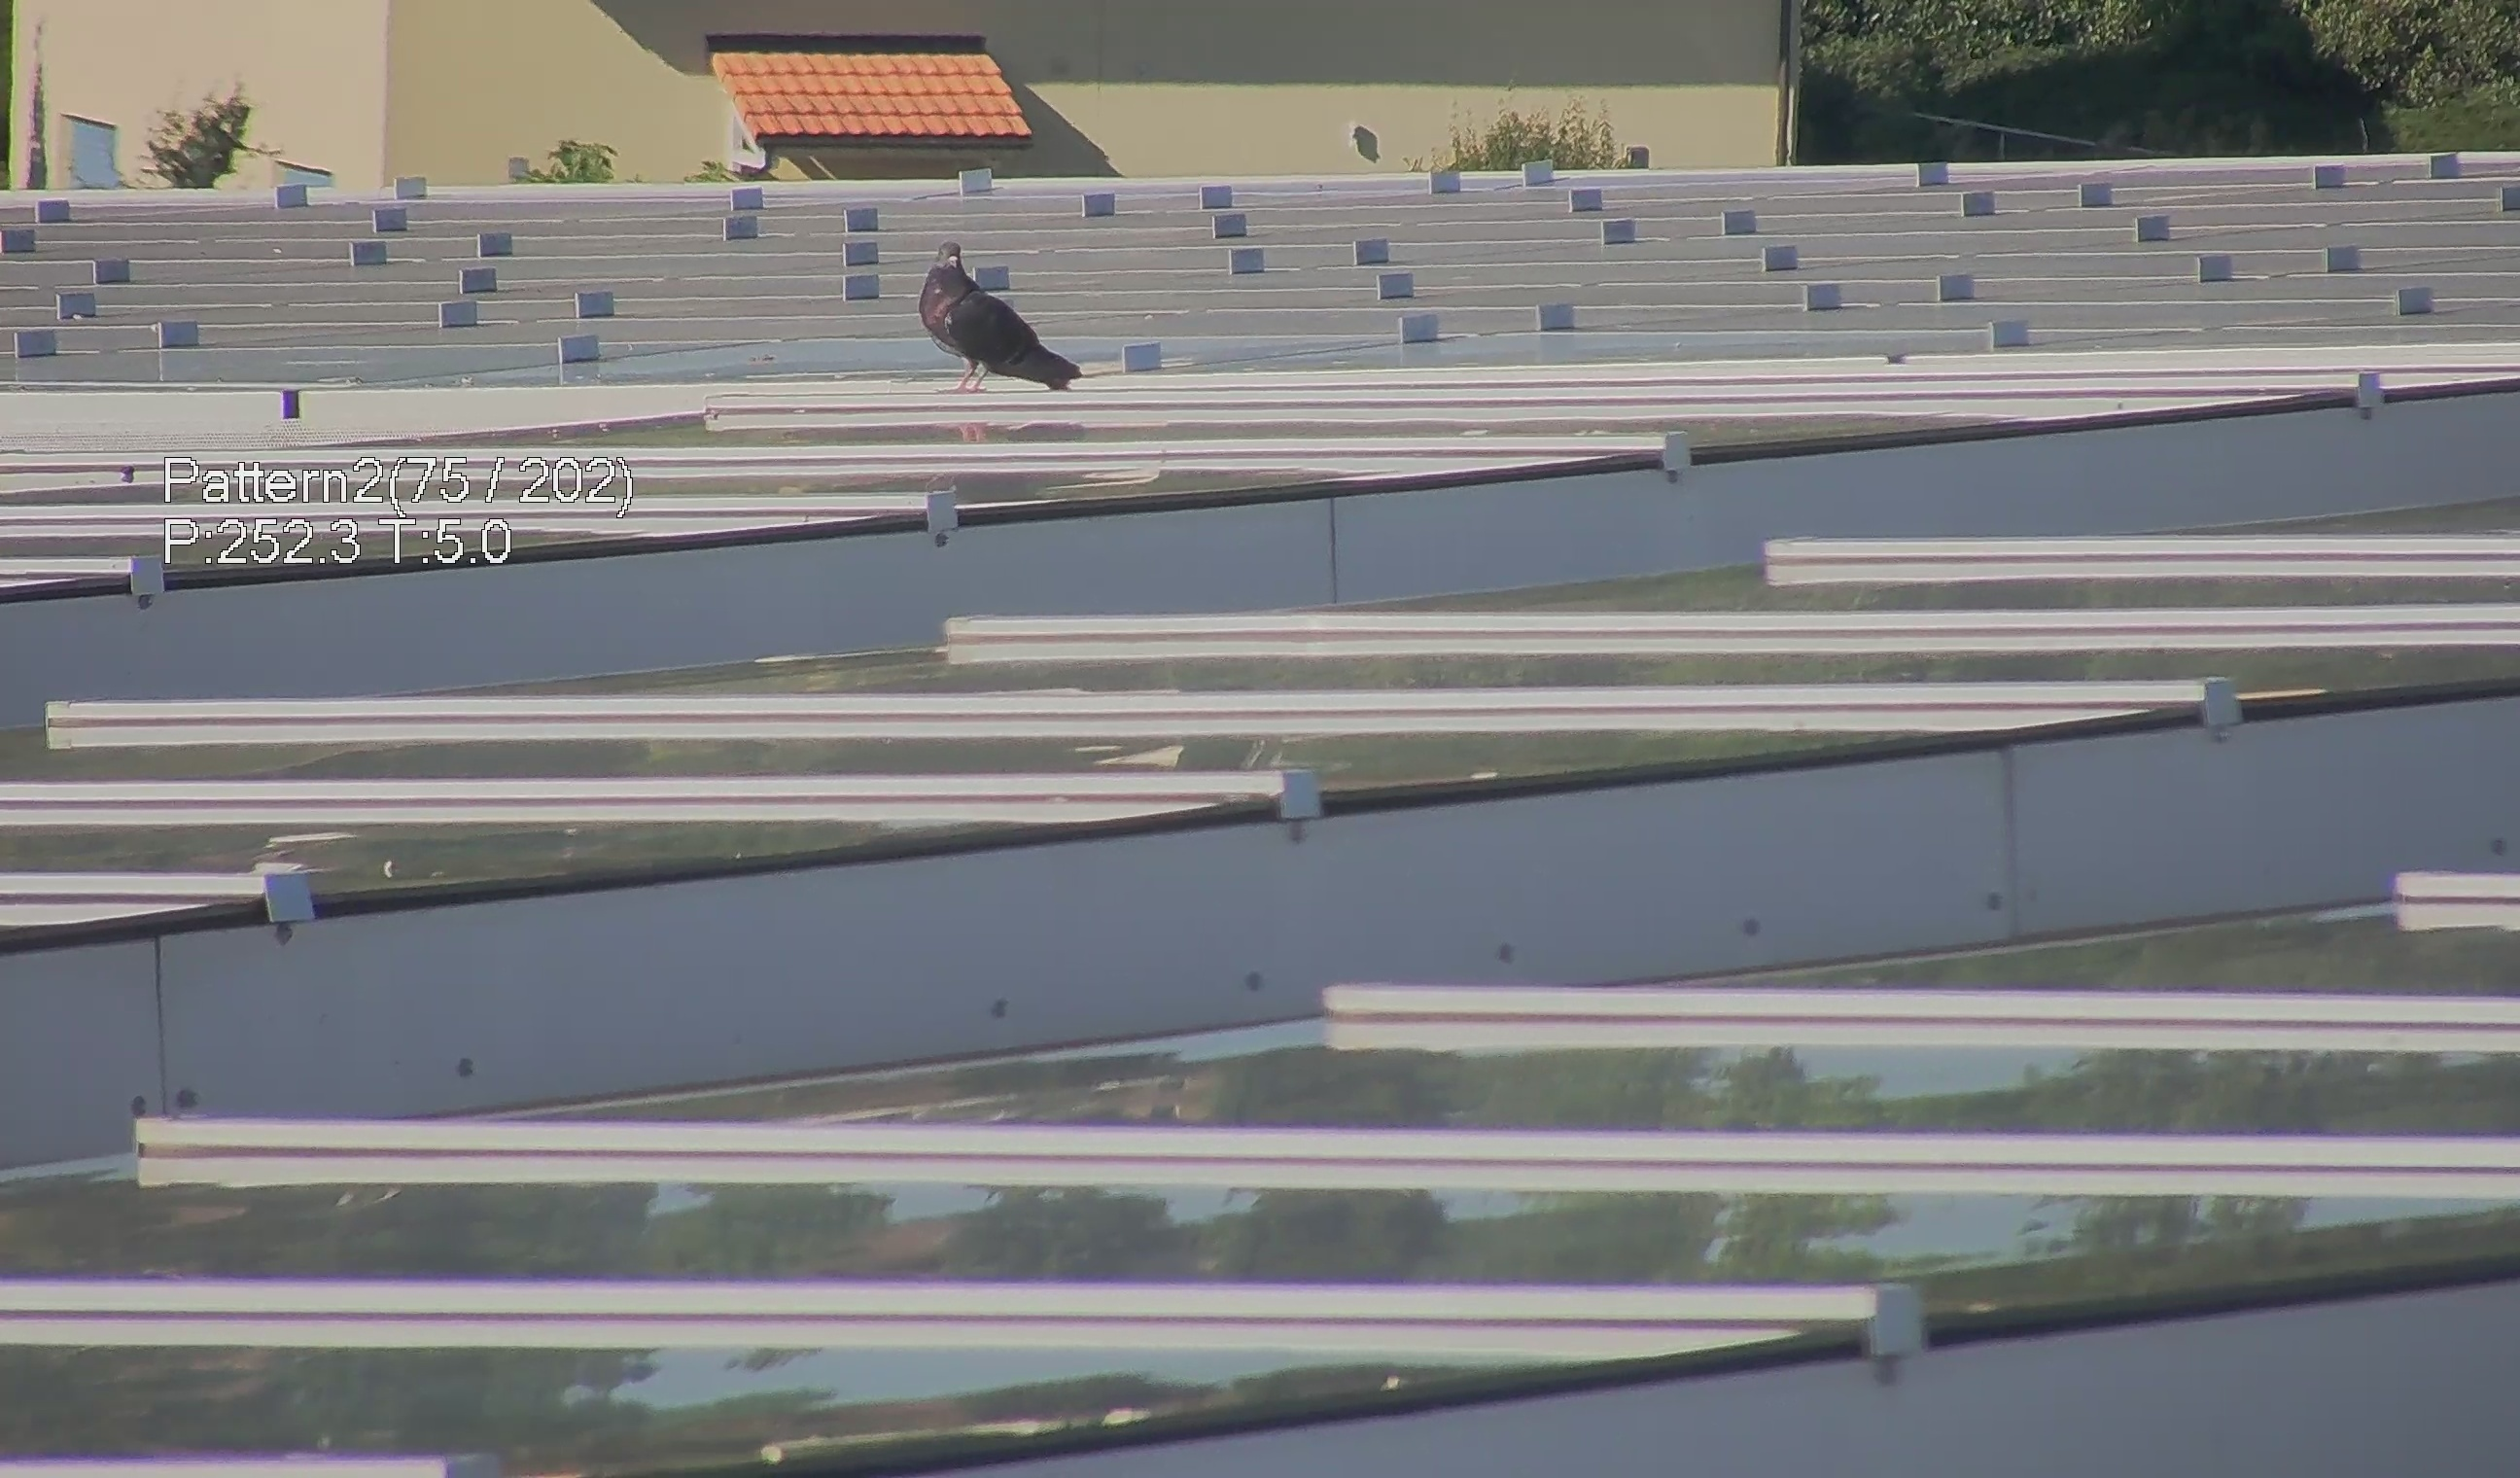Pigeon: (897, 236, 1083, 392)
